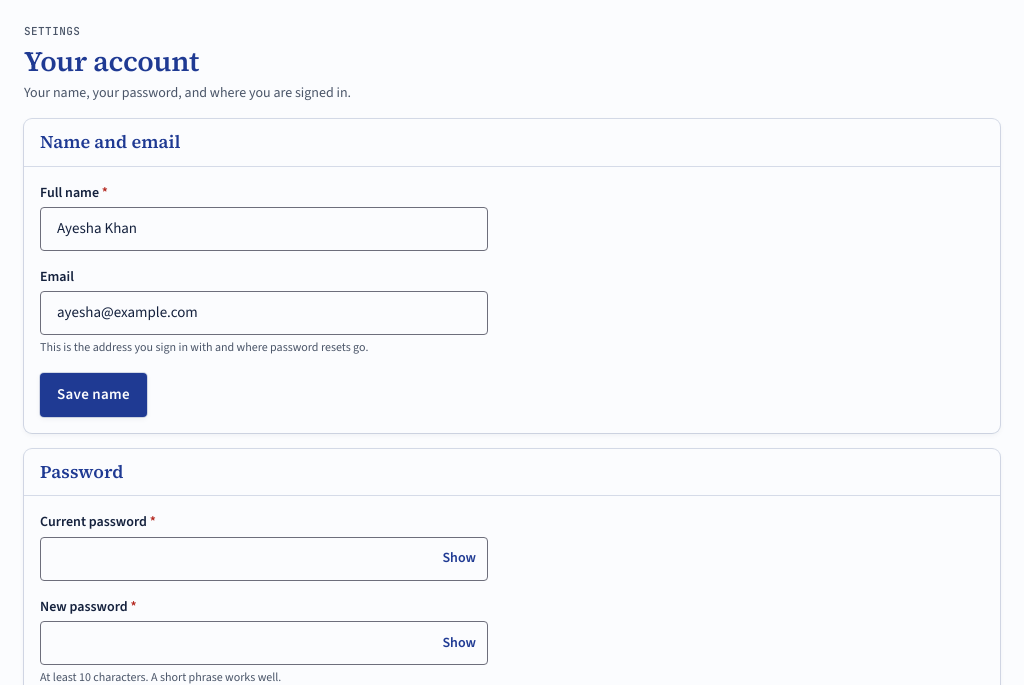
Scenario: AccountSettings › saves a new name and refreshes the session
The width and height of the screenshot is (1024, 685).
Replace the text in the field labelled "Full name *" with "Ayesha K." at [264, 229], box [40, 207, 488, 251]
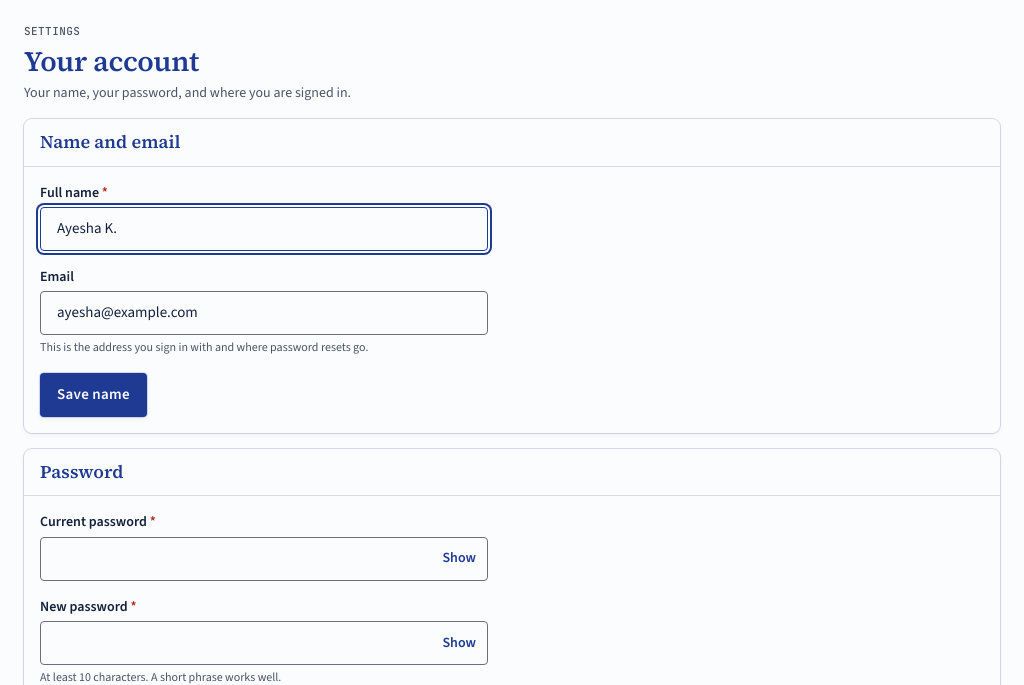
Click the button "Save name" at [94, 395], box [40, 373, 147, 417]
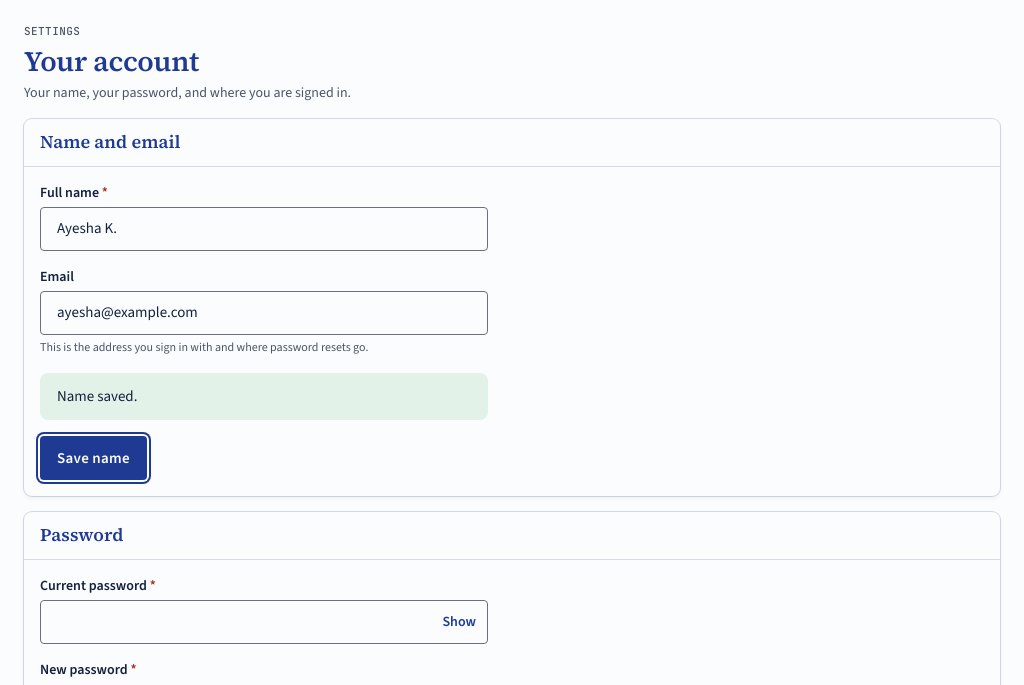
Expected: the text "Name saved." is shown, [57, 386, 137, 406]
